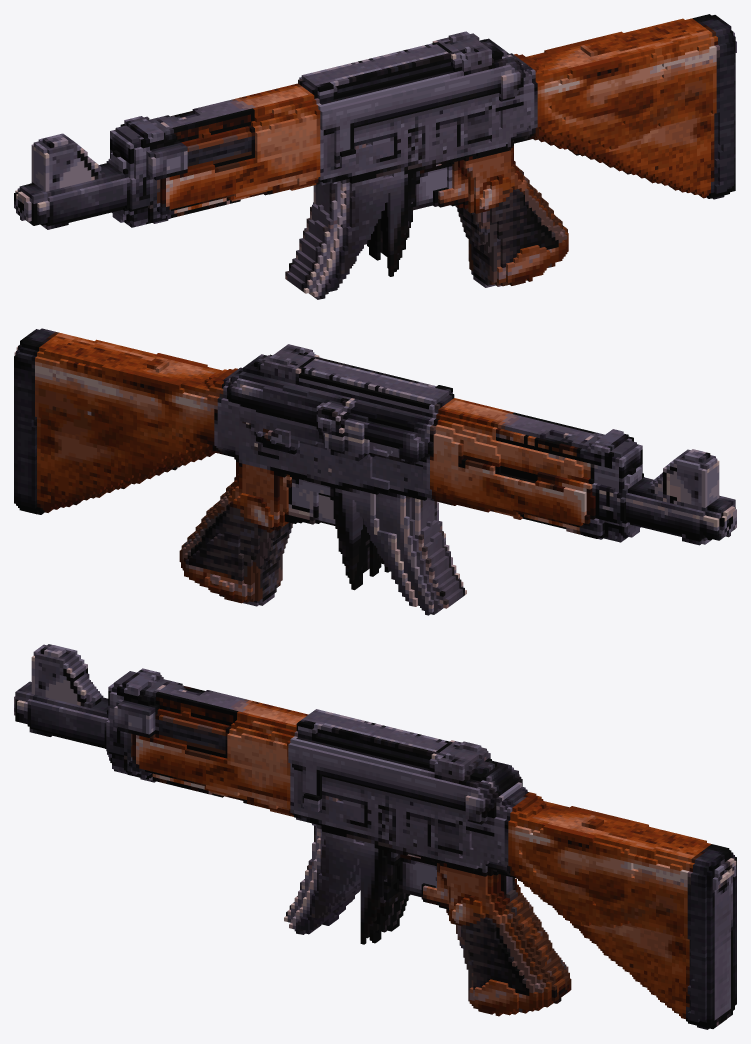
The model's file is akm_voxel_body.obj.
3 views of the same model, one above another, from view 1: azimuth 30°, elevation 25°; view 2: azimuth 150°, elevation 25°; view 3: azimuth 330°, elevation 25° (orthographic).
Bounding box in the file's own units: 1 × 0.34 × 0.115.
